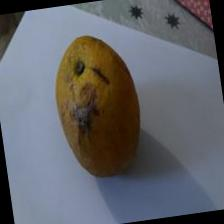Orange Rotten: (42, 13, 160, 200)
